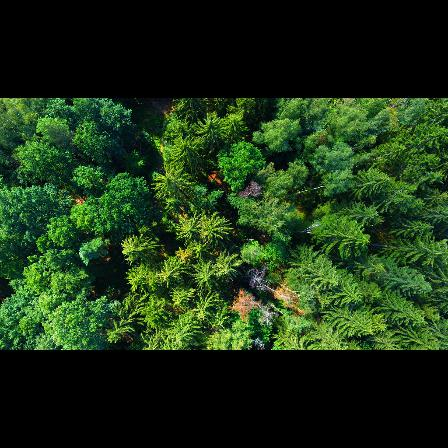Dead: (241, 265, 275, 291), (252, 299, 282, 327), (236, 181, 264, 199)
